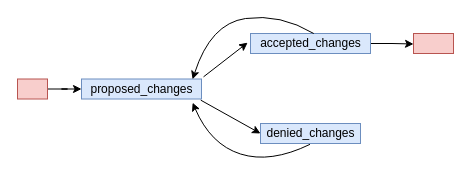
This 471x175 diagram has some shape labels left out. The shapes that lost their labels are listed below. From the top down, each one's centre as x and y in pixels, then its label:
At pixel 433 43: "end".
At pixel 32 88: "init".
